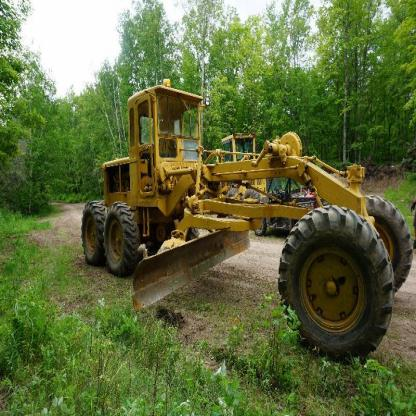bull_dozer/loader/grader: (70, 80, 416, 372)
